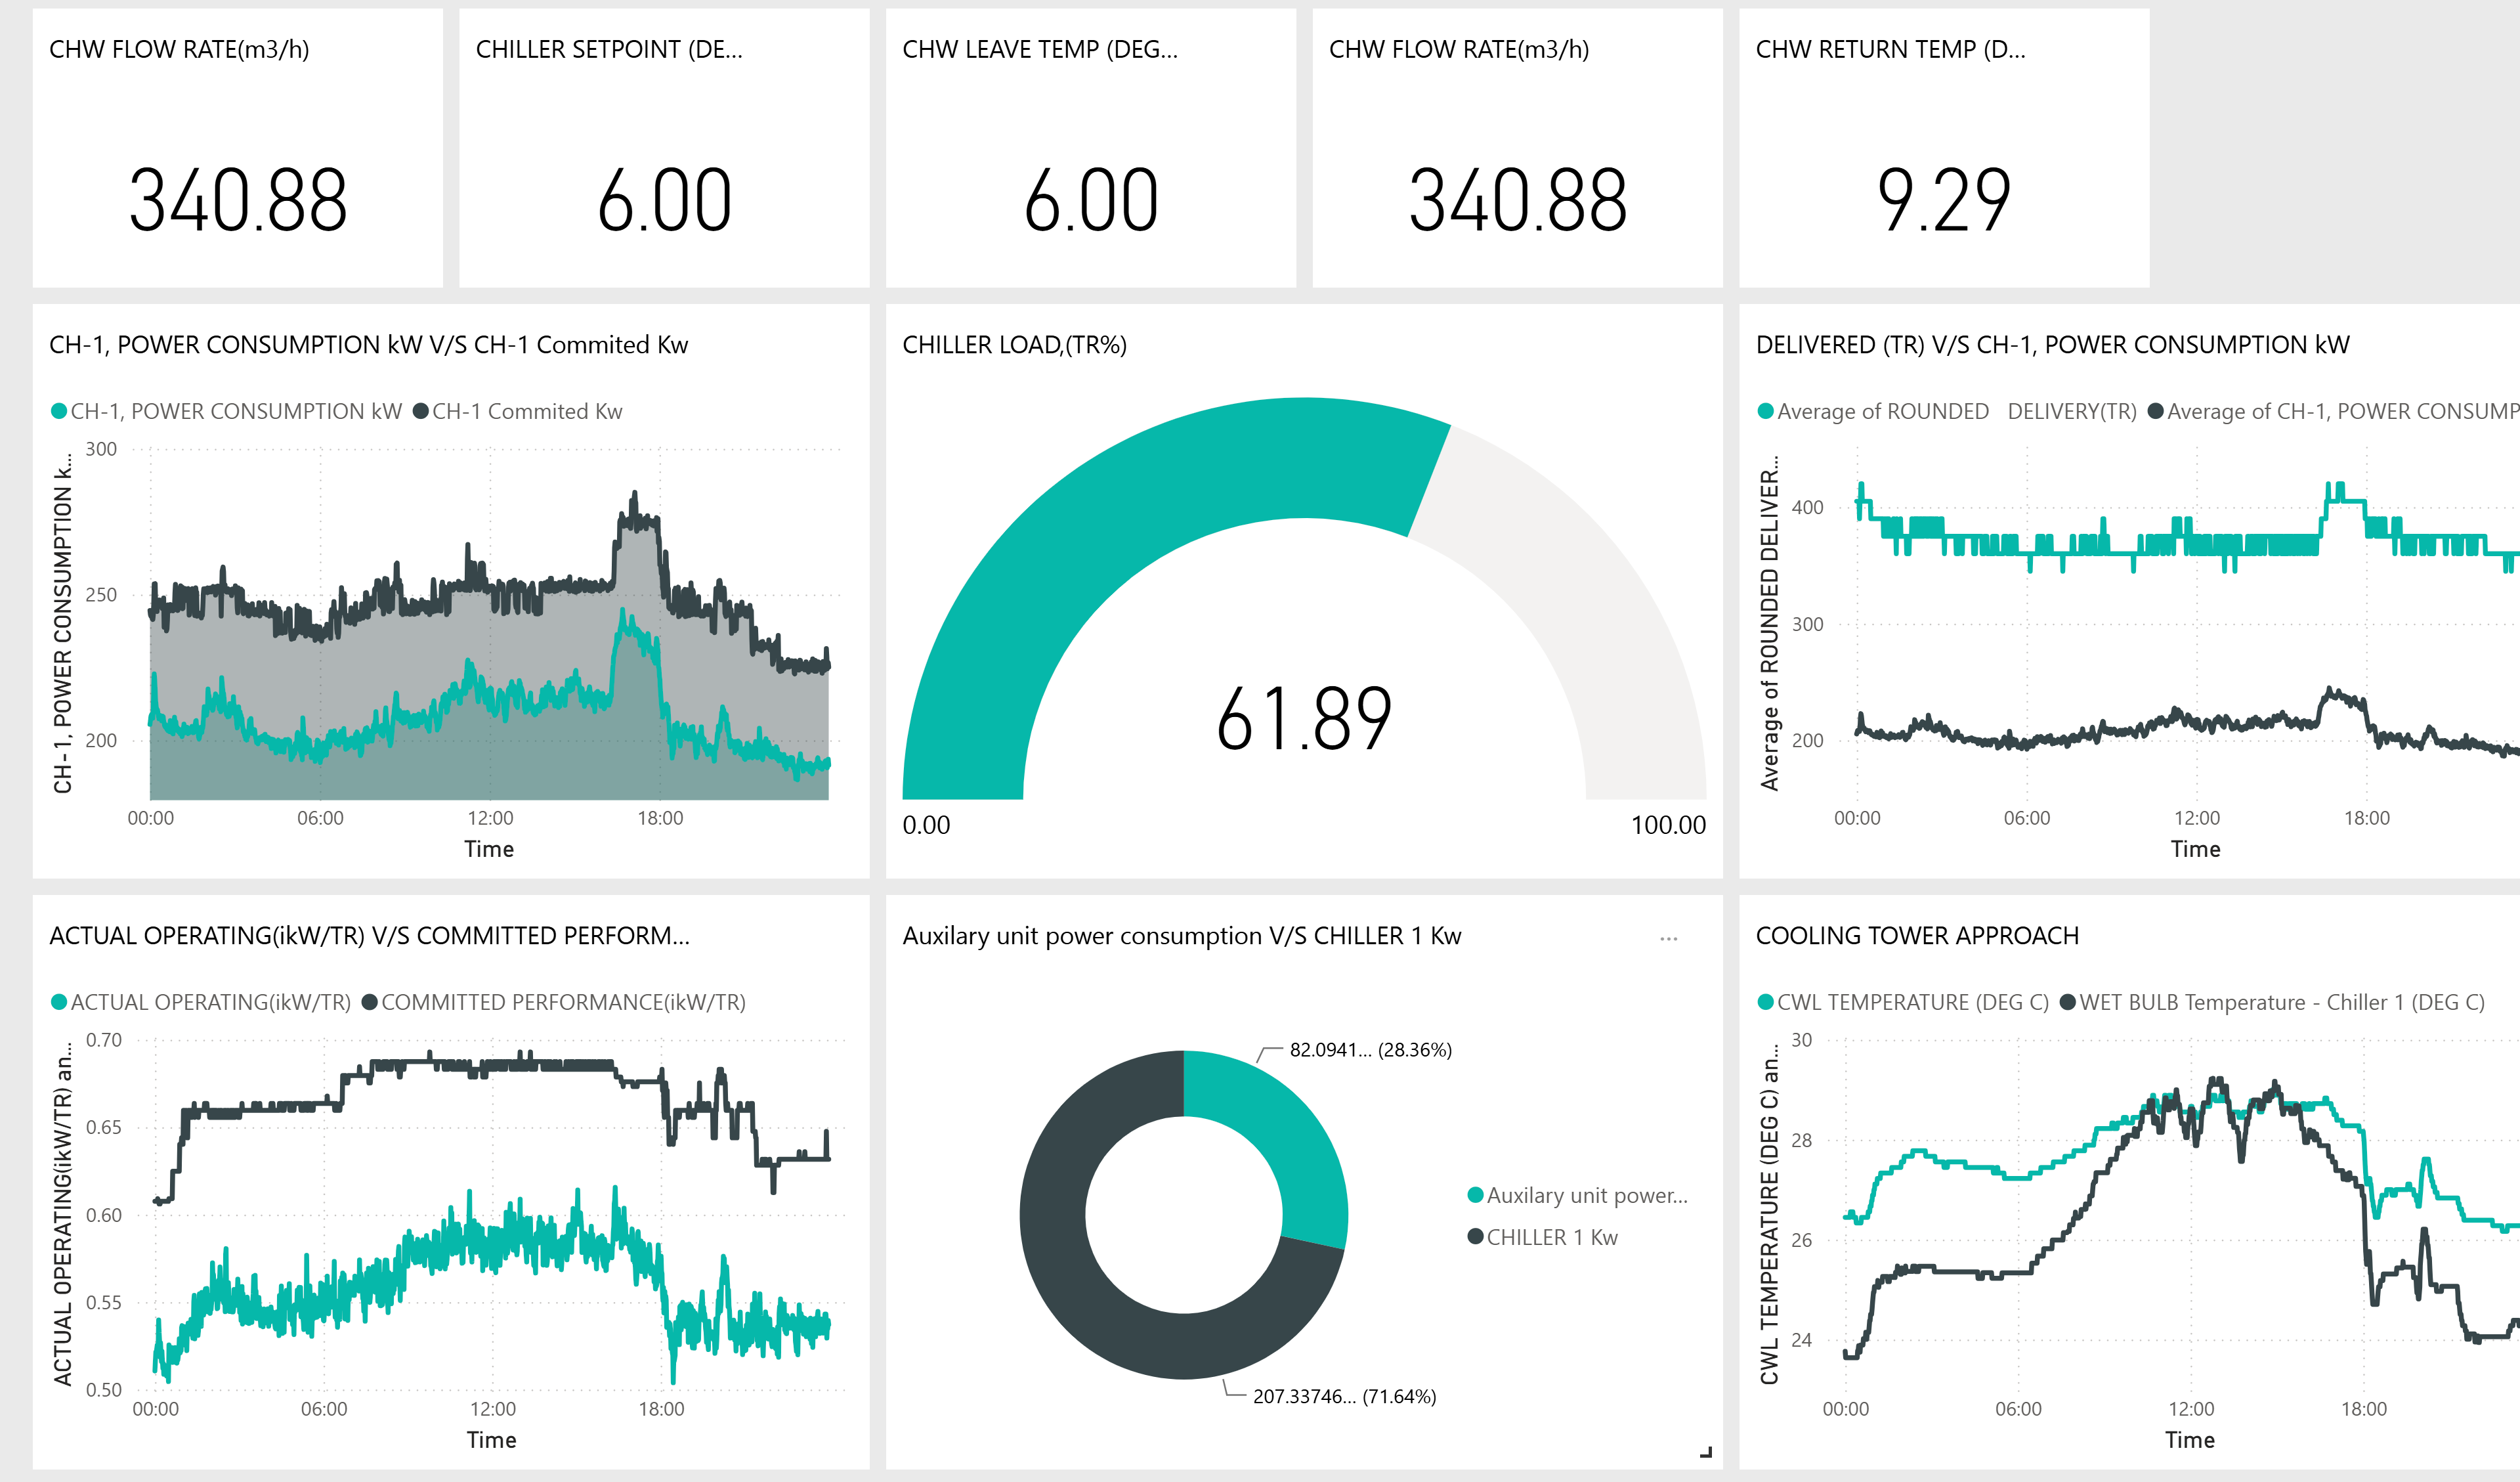

The page's visual inventory and layout, read from the dashboard file:
{"tool":"powerbi","page":{"name":"Page 1","canvas":[1280,720],"ordinal":0},"visuals":[{"type":"lineChart","title":"ACTUAL OPERATING(ikW/TR) V/S COMMITTED PERFORMANCE(ikW/TR)","fields":{"Category":["WATER COOLED CHILLER. Time"],"Y":["Avg(WATER COOLED CHILLER.ACTUAL OPERATING(ikW/TR))","Avg(WATER COOLED CHILLER.COMMITTED PERFORMANCE(ikW/TR))"]},"box":[0,177,371.9,253.9],"z":0},{"type":"lineChart","title":"DELIVERED (TR) V/S CH-1, POWER CONSUMPTION kW","fields":{"Category":["WATER COOLED CHILLER. Time"],"Y":["Avg(WATER COOLED CHILLER.ROUNDED   DELIVERY(TR))","Avg(WATER COOLED CHILLER.CH-1, POWER CONSUMPTION )"]},"box":[0,451.5,371.9,269],"z":1000},{"type":"areaChart","title":"CH-1, POWER CONSUMPTION kW V/S CH-1 Commited Kw ","fields":{"Category":["WATER COOLED CHILLER. Time"],"Y":["Avg(WATER COOLED CHILLER.CH-1, POWER CONSUMPTION )","Avg(WATER COOLED CHILLER.Commited Kw )"]},"box":[400.7,177,421.3,253.9],"z":2000},{"type":"lineChart","title":"COOLING TOWER APPROACH","fields":{"Category":["WATER COOLED CHILLER. Time"],"Y":["Avg(WATER COOLED CHILLER.CEFT TEMPERATURE(DEG C))","Avg(WATER COOLED CHILLER.WET BULB Temperature - Chiller 1(DEG C))"]},"box":[841.2,177,421.3,253.9],"z":3000},{"type":"donutChart","title":"Auxilary unit power consumption  V/S CHILLER 1 Kw ","fields":{"Y":["Avg(CHILLER PLANT ENERGY.Auxilary unit power consumption )","Avg(CHILLER PLANT ENERGY.CHILLER 1 Kw )"]},"box":[400.7,451.5,421.3,269],"z":4000},{"type":"gauge","fields":{"Y":["Avg(CHILLER PLANT ENERGY.CHILLER LOAD,(TR%) )"]},"box":[839.8,451.5,421.3,269],"z":5000},{"type":"card","fields":{"Values":["Avg(WATER COOLED CHILLER.CHILLER TEMPERATURE LEAVING SETPOINT(DEG C))"]},"box":[371.7,48.3,205,128.3],"z":6000},{"type":"card","fields":{"Values":["Avg(WATER COOLED CHILLER.CHW RETURN TEMPERATURE(DEG C))"]},"box":[846.7,48.3,203.3,128.3],"z":7000},{"type":"card","fields":{"Values":["Avg(WATER COOLED CHILLER.CHW LEAVE TEMPERATURE(DEG C))"]},"box":[611.7,48.3,206.7,128.3],"z":8000},{"type":"card","fields":{"Values":["Avg(WATER COOLED CHILLER.CHW FLOW RATE(m3/h))"]},"box":[1073.3,48.3,206.7,128.3],"z":9000},{"type":"card","fields":{"Values":["Min(WATER COOLED CHILLER. Date)"]},"box":[0,61.7,351.3,115.3],"z":10000},{"type":"actionButton","box":[0,0,100,40],"z":11000},{"type":"textbox","box":[73.3,0,1133.3,61.7],"z":12000}]}

Visuals, with their boxes on the page's 1280x720 design canvas (x1, y1, x2, y2). These are canvas units, not pixel positions in the 2520x1482 screenshot, which may show the page scaled, cropped or inside an application window:
"ACTUAL OPERATING(ikW/TR) V/S COMMITTED PERFORMANCE(ikW/TR)" lineChart: detection(0, 177, 372, 431)
"DELIVERED (TR) V/S CH-1, POWER CONSUMPTION kW" lineChart: detection(0, 452, 372, 720)
"CH-1, POWER CONSUMPTION kW V/S CH-1 Commited Kw " areaChart: detection(401, 177, 822, 431)
"COOLING TOWER APPROACH" lineChart: detection(841, 177, 1262, 431)
"Auxilary unit power consumption  V/S CHILLER 1 Kw " donutChart: detection(401, 452, 822, 720)
gauge - Avg(CHILLER PLANT ENERGY.CHILLER LOAD,(TR%) ): detection(840, 452, 1261, 720)
card - Avg(WATER COOLED CHILLER.CHILLER TEMPERATURE LEAVING SETPOINT(DEG C)): detection(372, 48, 577, 177)
card - Avg(WATER COOLED CHILLER.CHW RETURN TEMPERATURE(DEG C)): detection(847, 48, 1050, 177)
card - Avg(WATER COOLED CHILLER.CHW LEAVE TEMPERATURE(DEG C)): detection(612, 48, 818, 177)
card - Avg(WATER COOLED CHILLER.CHW FLOW RATE(m3/h)): detection(1073, 48, 1280, 177)
card - Min(WATER COOLED CHILLER. Date): detection(0, 62, 351, 177)
actionButton: detection(0, 0, 100, 40)
textbox: detection(73, 0, 1207, 62)
